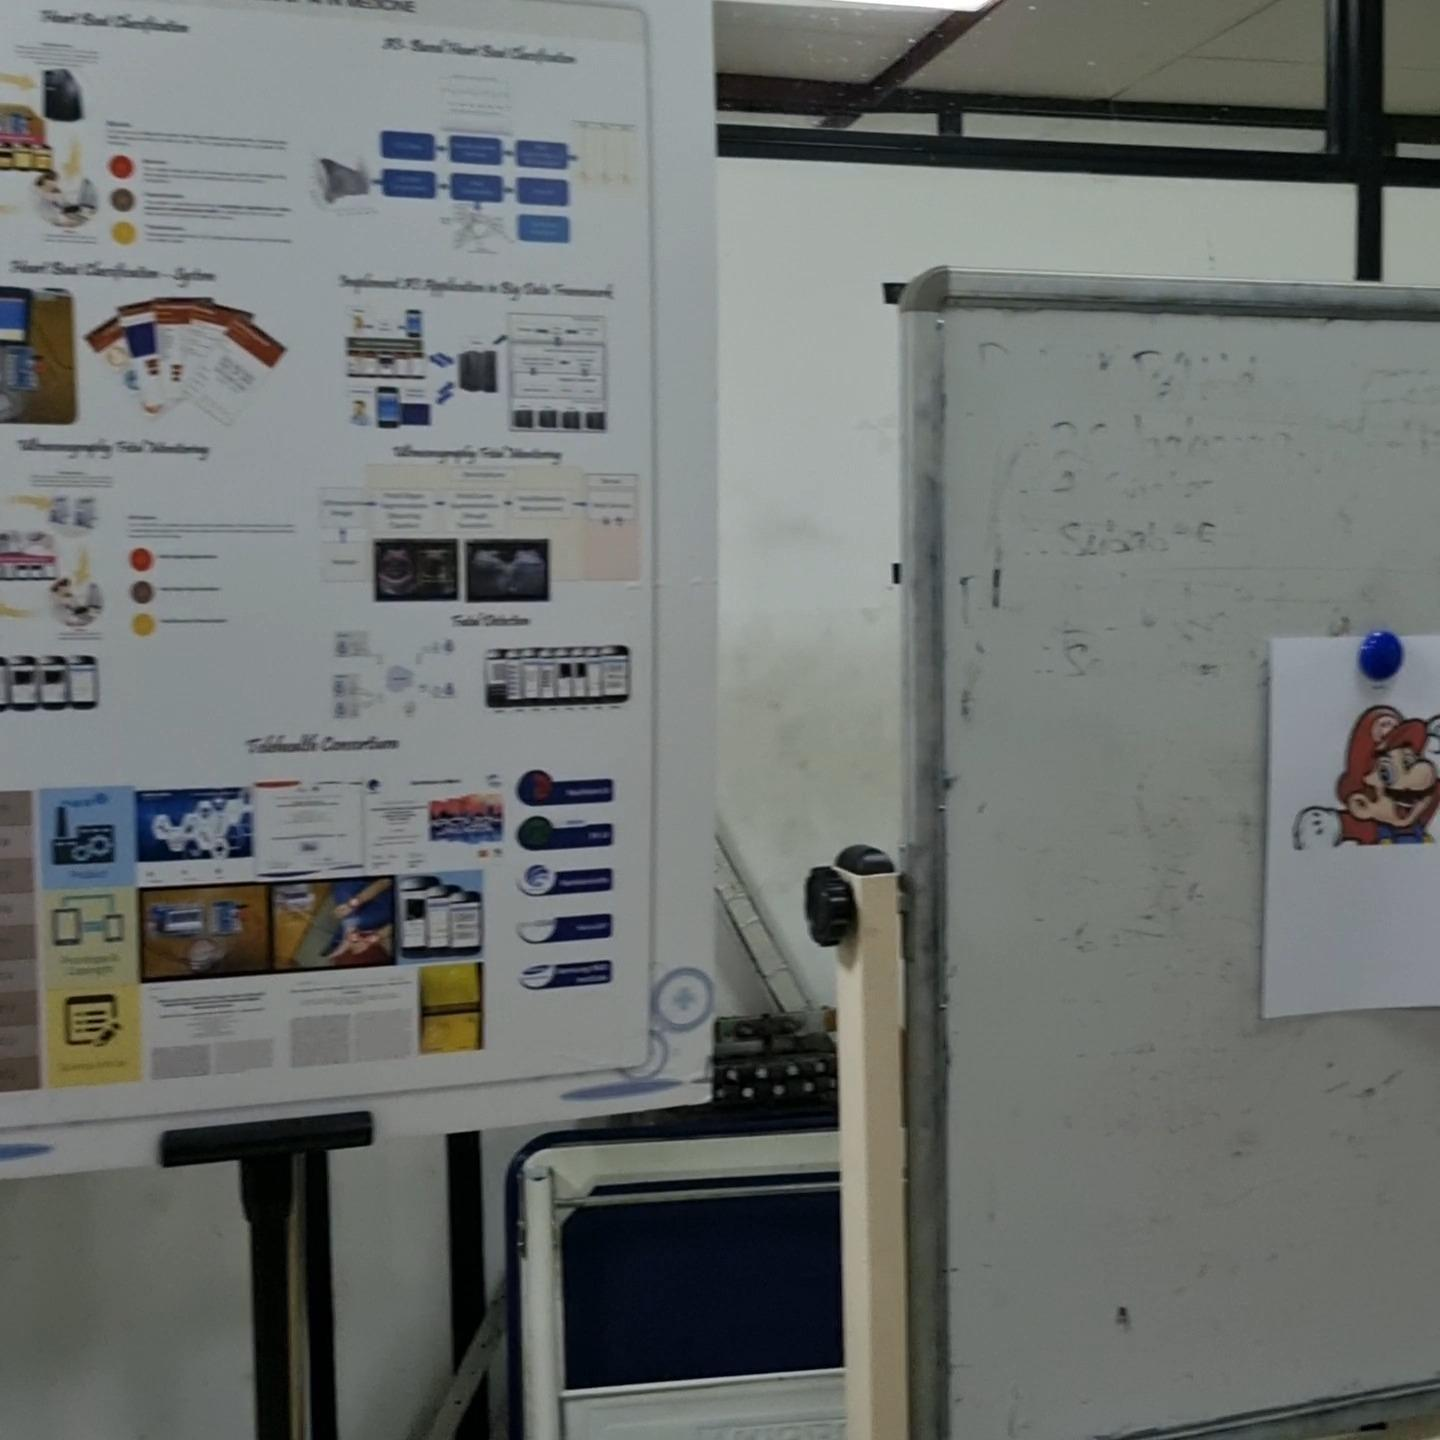mario: (1287, 694, 1440, 858)
